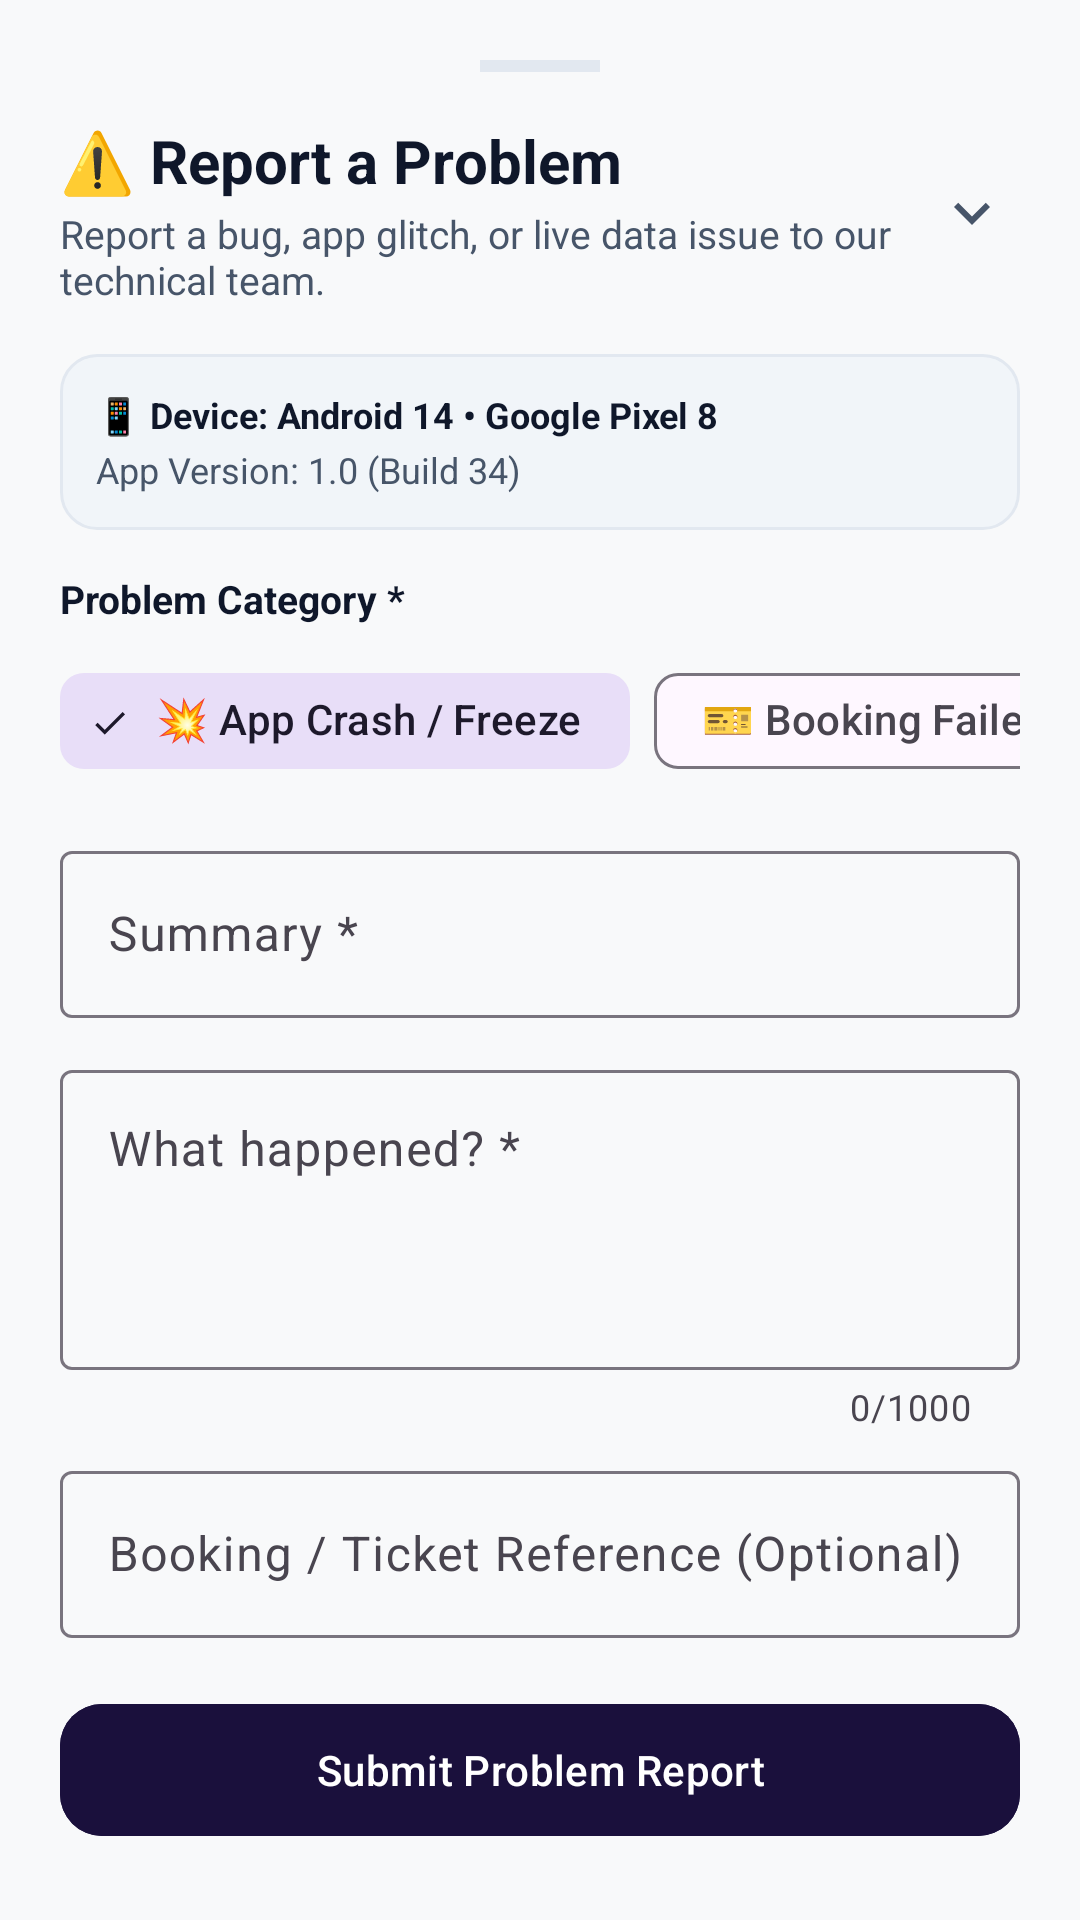

Icon click points for this 1080x1920 phone screenshot, format [x,y]:
chevron down: [972,214]
